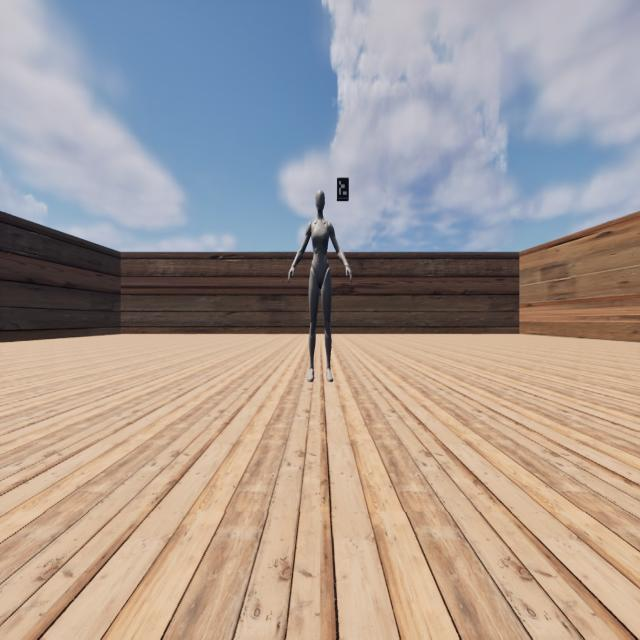aruco: (337, 177, 349, 198)
hip: (310, 268, 331, 277)
